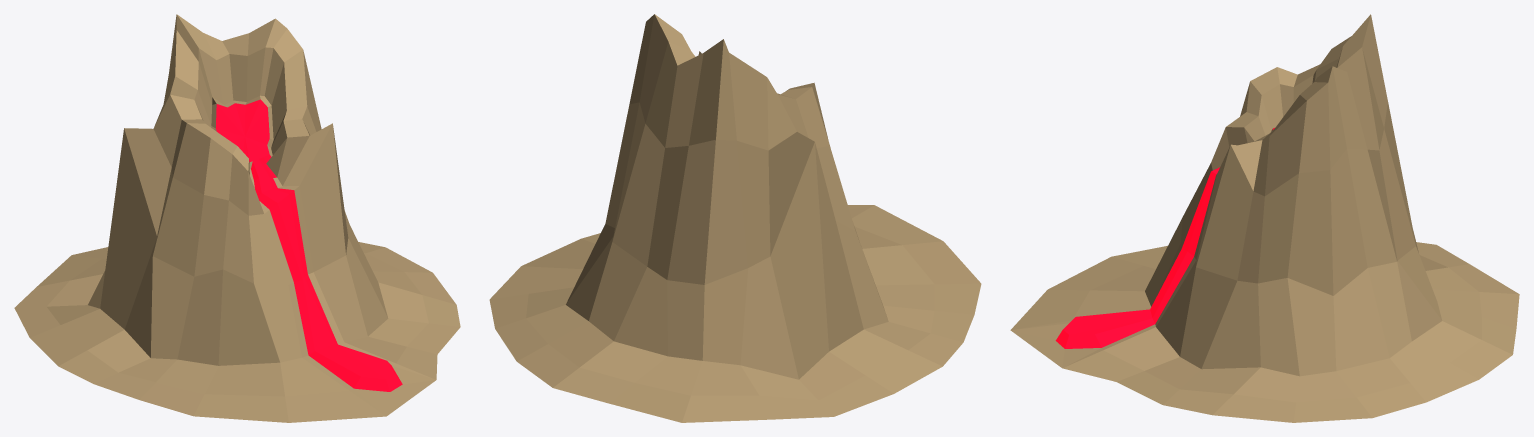
File: volcan.fbx
3 views of the same model, side by side, from view 1: azimuth 30°, elevation 25°; view 2: azimuth 150°, elevation 25°; view 3: azimuth 270°, elevation 25° (orthographic). The views are drawn at different scales.
Visible parts, largest first — view 1: 1230 Volcano; view 2: 1230 Volcano; view 3: 1230 Volcano.
Boxes of the visible parts, x1,y1,x2,y2 form: 1230 Volcano: (14,14,460,422); 1230 Volcano: (489,14,981,422); 1230 Volcano: (1010,14,1519,422).
Size of the model in its own units: 14.33 by 10.35 by 16.07.
